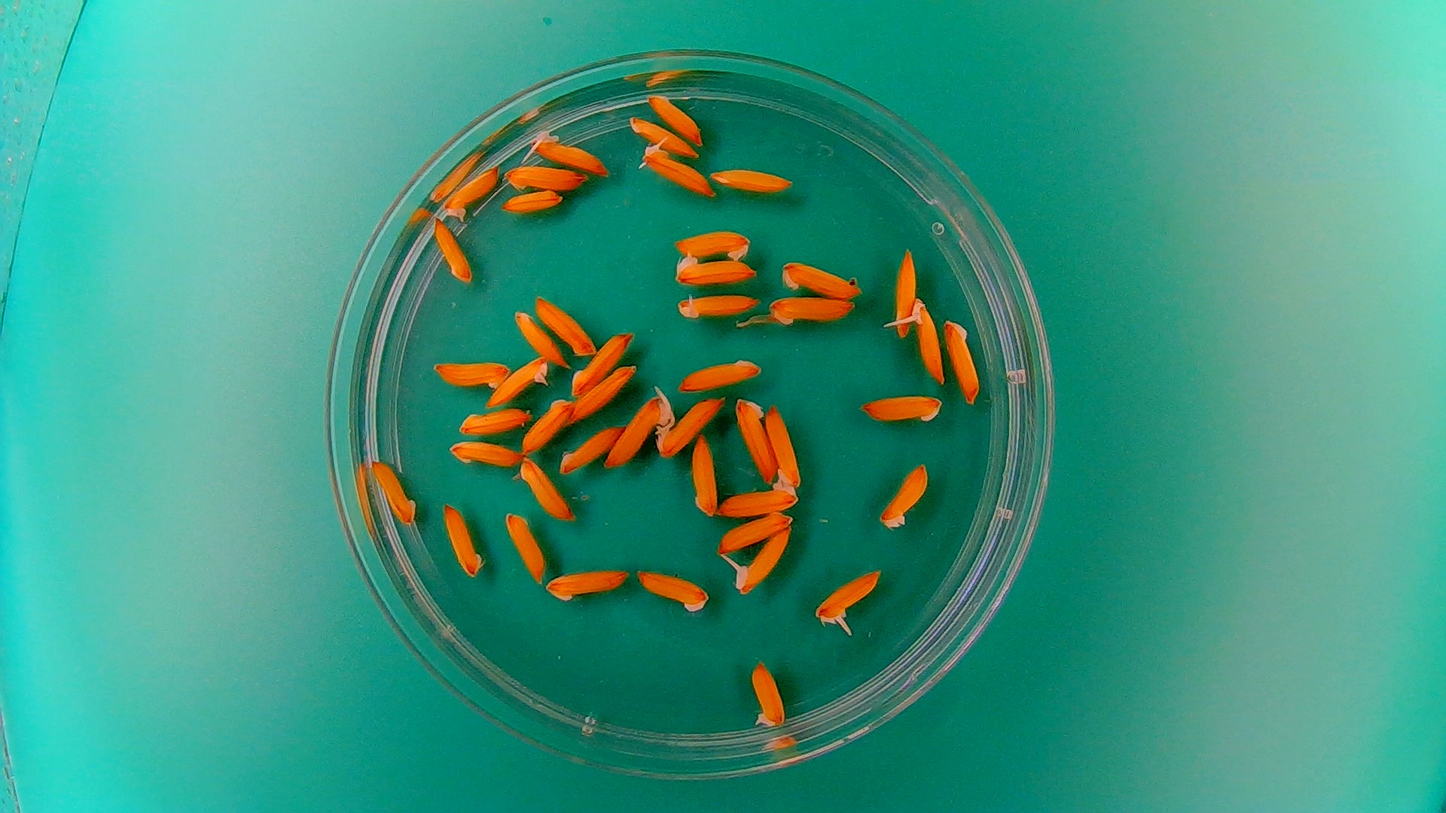no: (569, 328, 634, 394), (569, 361, 638, 422), (532, 292, 596, 356), (441, 161, 502, 228), (877, 459, 932, 531), (734, 394, 777, 485), (633, 566, 711, 615), (518, 455, 575, 522), (777, 257, 865, 300), (674, 351, 764, 393), (541, 563, 630, 604), (714, 510, 795, 554), (764, 400, 804, 489), (941, 315, 981, 404), (440, 501, 485, 580), (557, 423, 624, 476), (643, 89, 705, 145), (502, 508, 548, 583), (718, 474, 798, 517), (511, 306, 567, 367), (857, 389, 946, 427), (625, 113, 700, 158), (764, 292, 856, 328), (370, 457, 417, 525), (522, 394, 573, 454), (671, 227, 756, 263), (706, 162, 796, 195), (432, 215, 474, 285), (431, 355, 511, 391), (887, 245, 918, 337), (670, 254, 758, 286), (502, 161, 587, 194), (688, 430, 718, 518), (454, 404, 531, 437), (446, 437, 522, 469), (499, 187, 563, 213)
yes: (604, 391, 668, 470), (813, 565, 886, 634), (653, 392, 728, 458), (725, 525, 794, 596), (639, 145, 714, 197), (529, 131, 612, 177), (905, 297, 947, 382), (484, 354, 550, 408), (672, 289, 761, 321), (749, 657, 787, 729)
